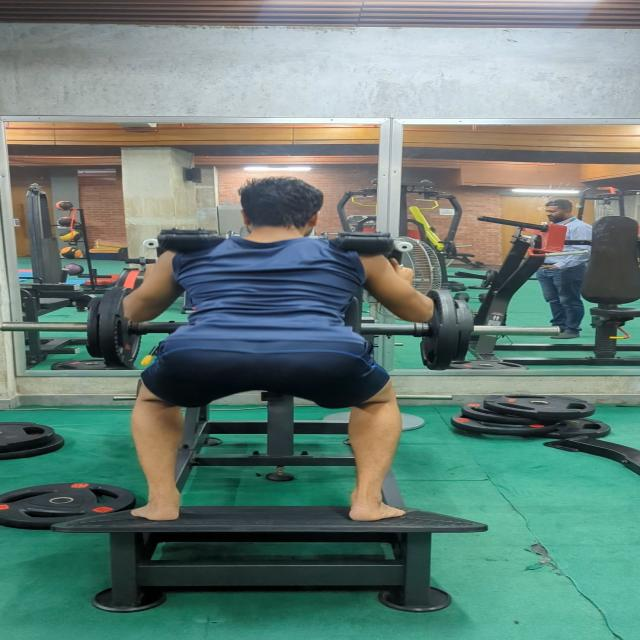Normal_SquatsWithBarbell: (77, 165, 448, 521)
